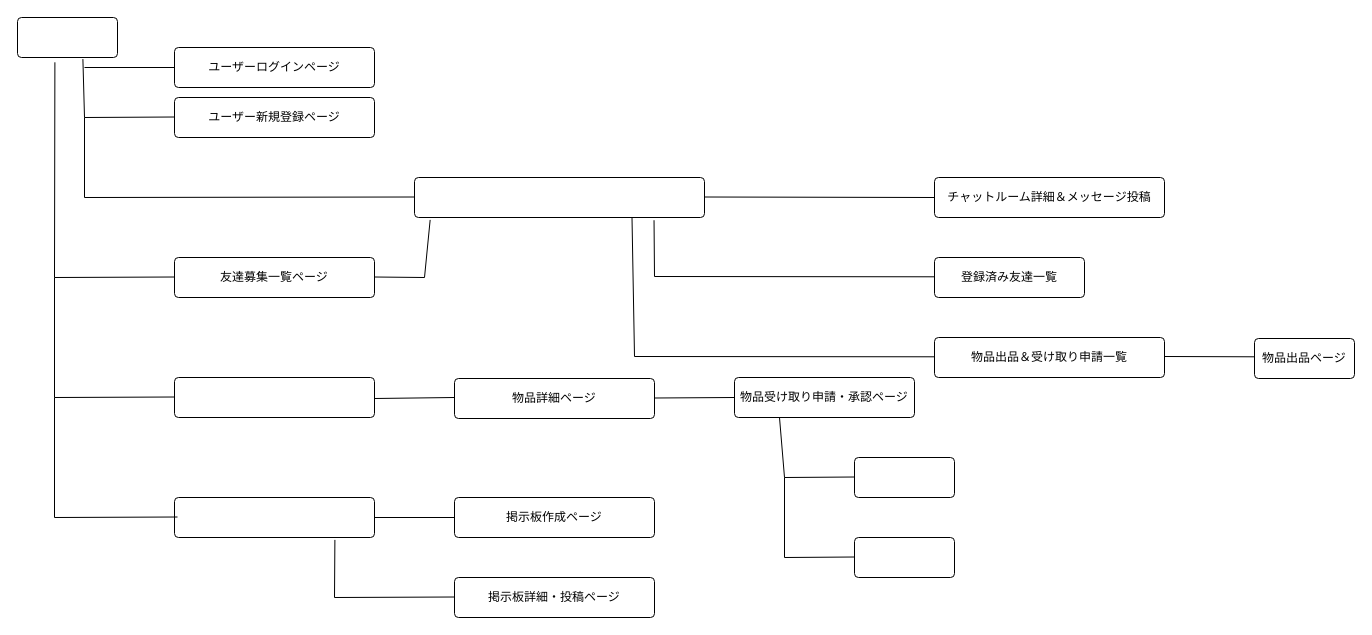
Image size: 1372x635. Some labels were removed from this diagram. The shapes that lost their labels are listed below. From the top down, each one's centre as x and y in pixels, then its label:
At pixel 67 37: "一覧ページ".
At pixel 559 197: "ユーザー詳細ページ＆チャットルーム一覧".
At pixel 274 397: "物品一覧ページ".
At pixel 904 477: "物品受け取り確認ページ".
At pixel 274 517: "掲示板一覧ページ".
At pixel 904 557: "物品受け渡し確認ページ".
